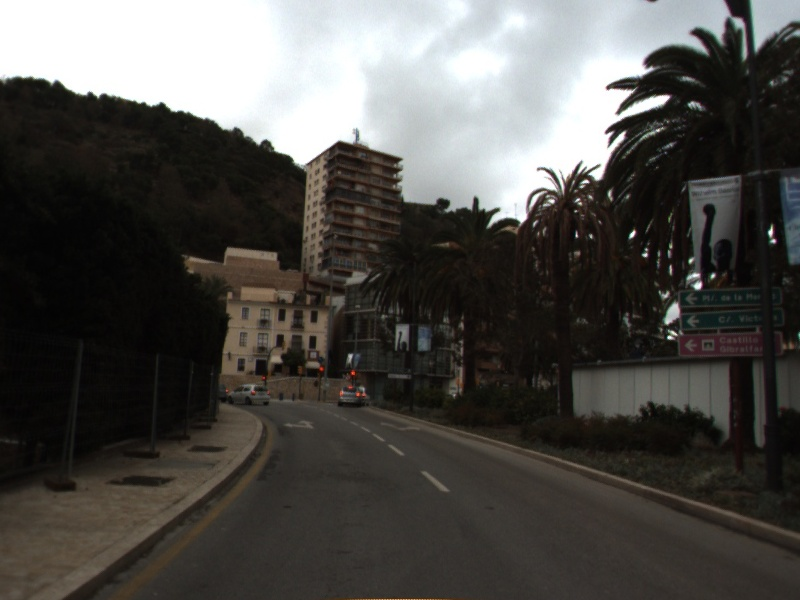STRAIGHT_LEFT: (281, 418, 317, 431)
STRAIGHT_RIGHT: (378, 419, 423, 434)
